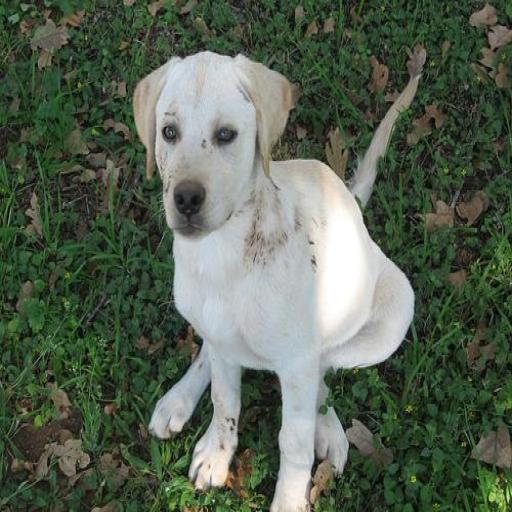dog_face: (132, 51, 278, 232)
